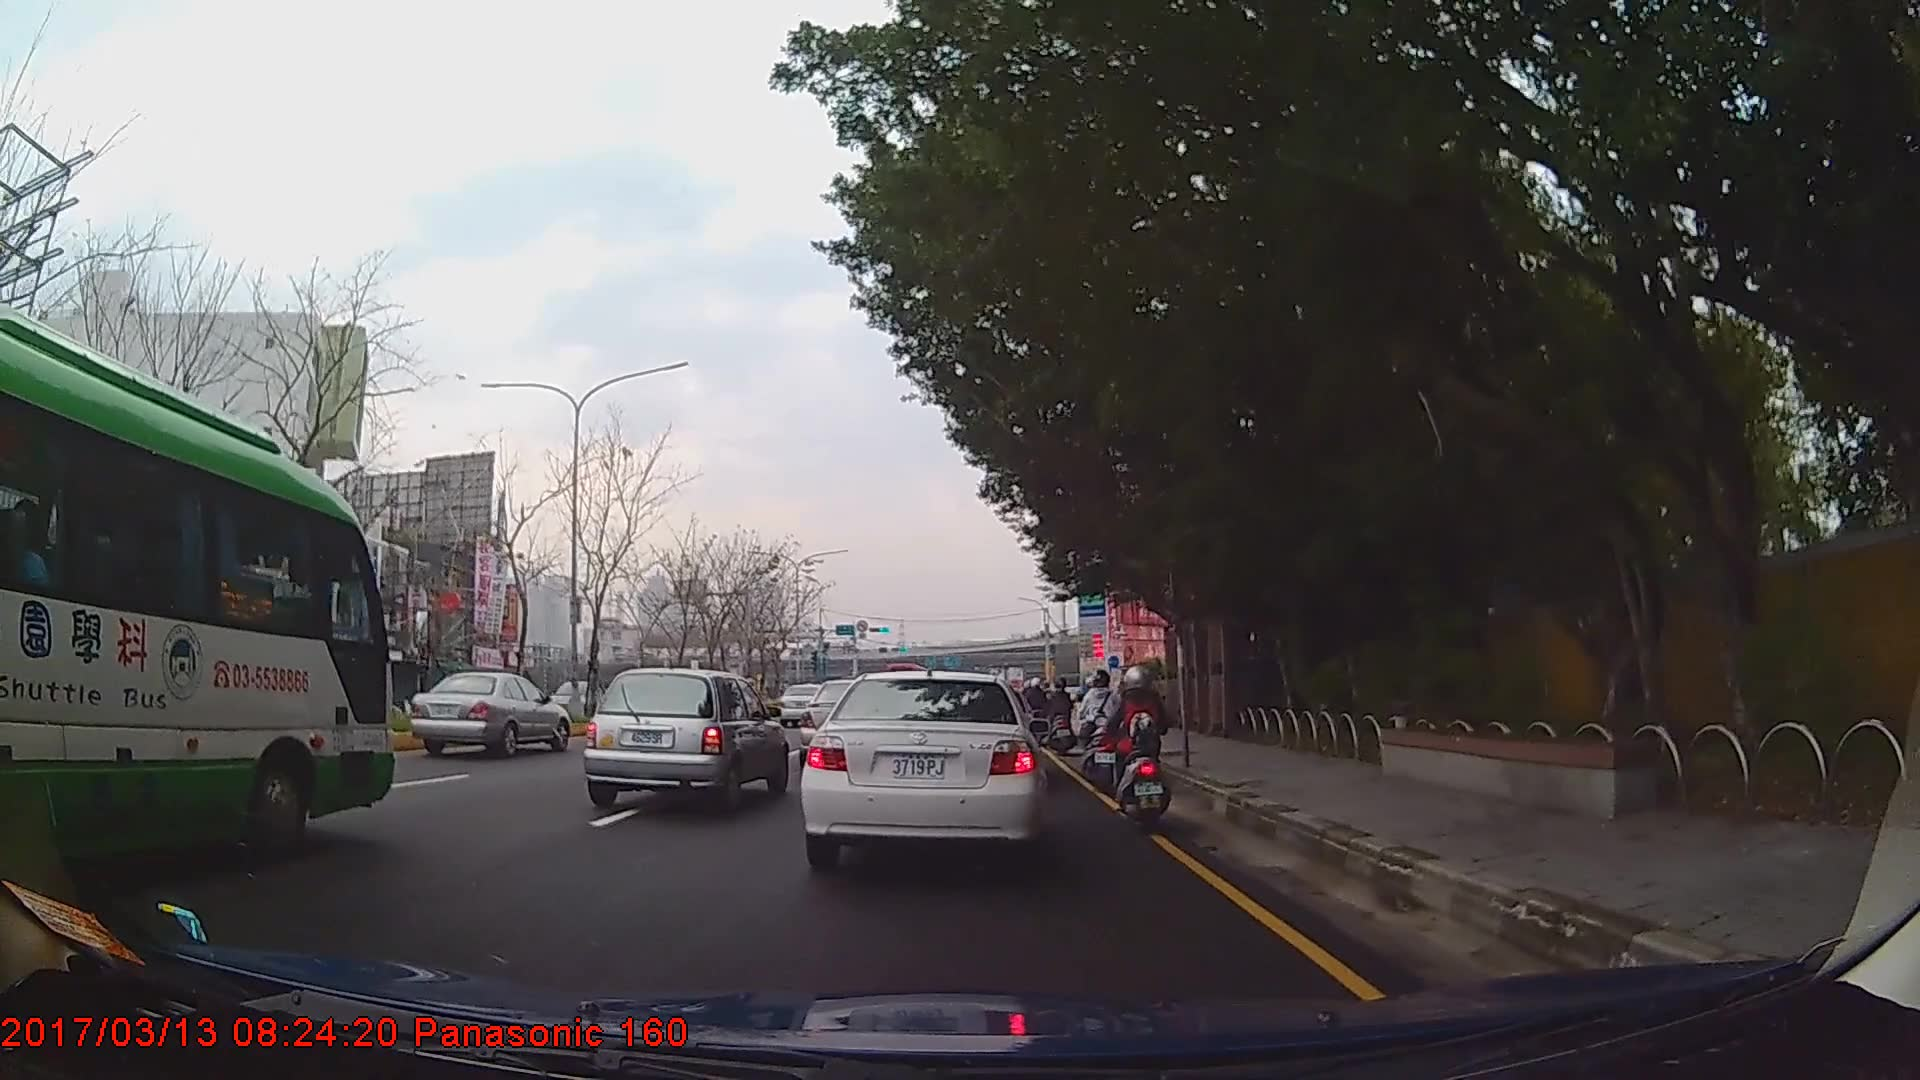rider: (1104, 661, 1164, 820), (1079, 669, 1121, 789), (1047, 679, 1074, 745)
vehicle: (0, 303, 397, 885), (796, 672, 1045, 865), (581, 667, 790, 812), (410, 670, 568, 762), (778, 681, 833, 726)
